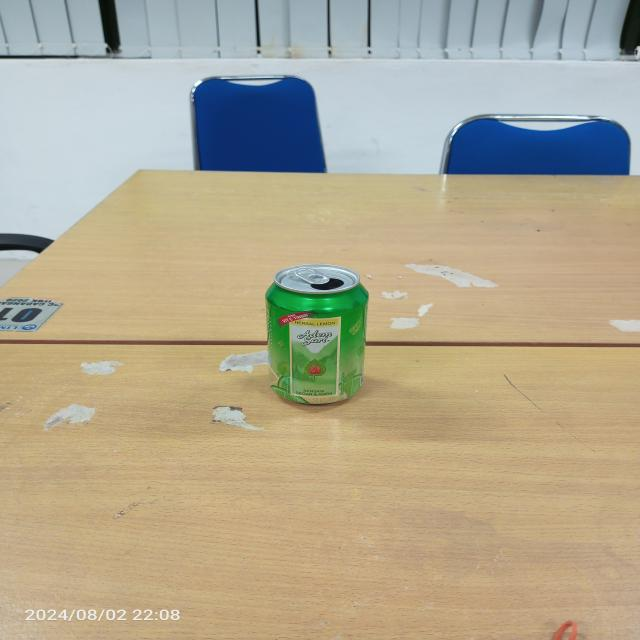ademsarikaleng: (263, 262, 370, 406)
